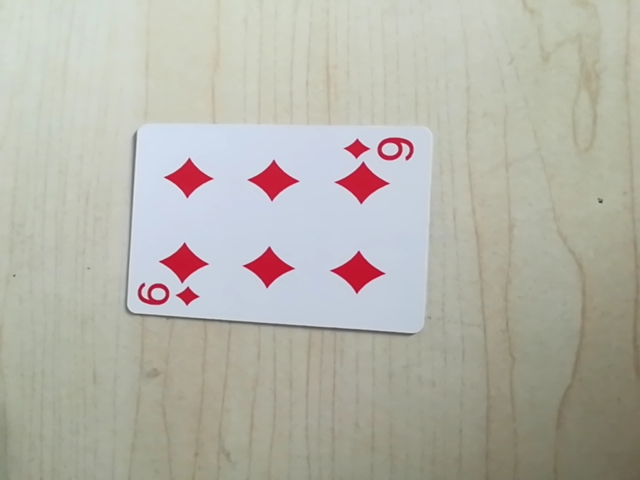fk 6: (342, 129, 419, 166), (135, 281, 204, 315)
